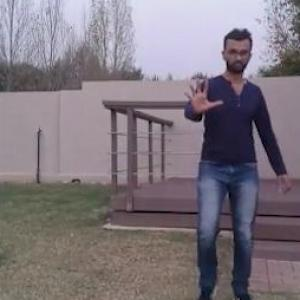follow_hand: (178, 72, 226, 117)
